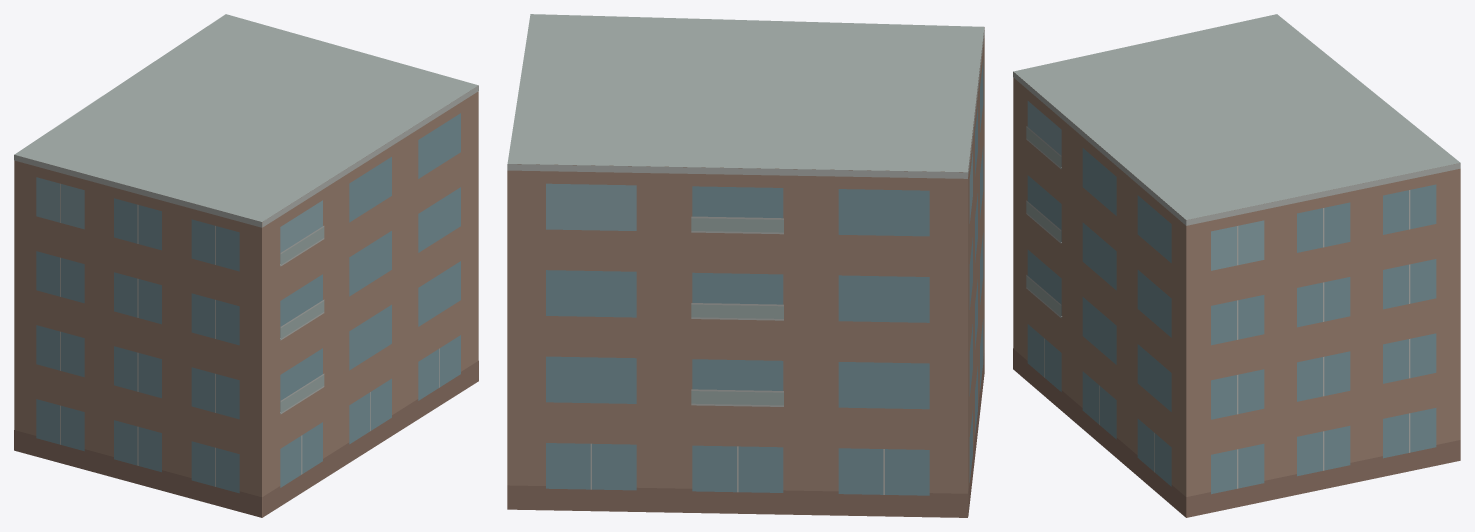
File: survey-upis-32733468.glb
The picture shows the model from 3 angles, left to right: view 1: azimuth 30°, elevation 25°; view 2: azimuth 150°, elevation 25°; view 3: azimuth 270°, elevation 25°; orthographic projection. The views are drawn at different scales.
Parts seen in each view (by area): view 1: survey-upis-32733468.tmp; view 2: survey-upis-32733468.tmp; view 3: survey-upis-32733468.tmp.
Boxes of the visible parts, <box> form: survey-upis-32733468.tmp: <box>14,14,478,517</box>; survey-upis-32733468.tmp: <box>507,14,984,517</box>; survey-upis-32733468.tmp: <box>1013,14,1460,517</box>.
Bounding box in the file's own units: 18.71 × 12.6 × 17.17.
